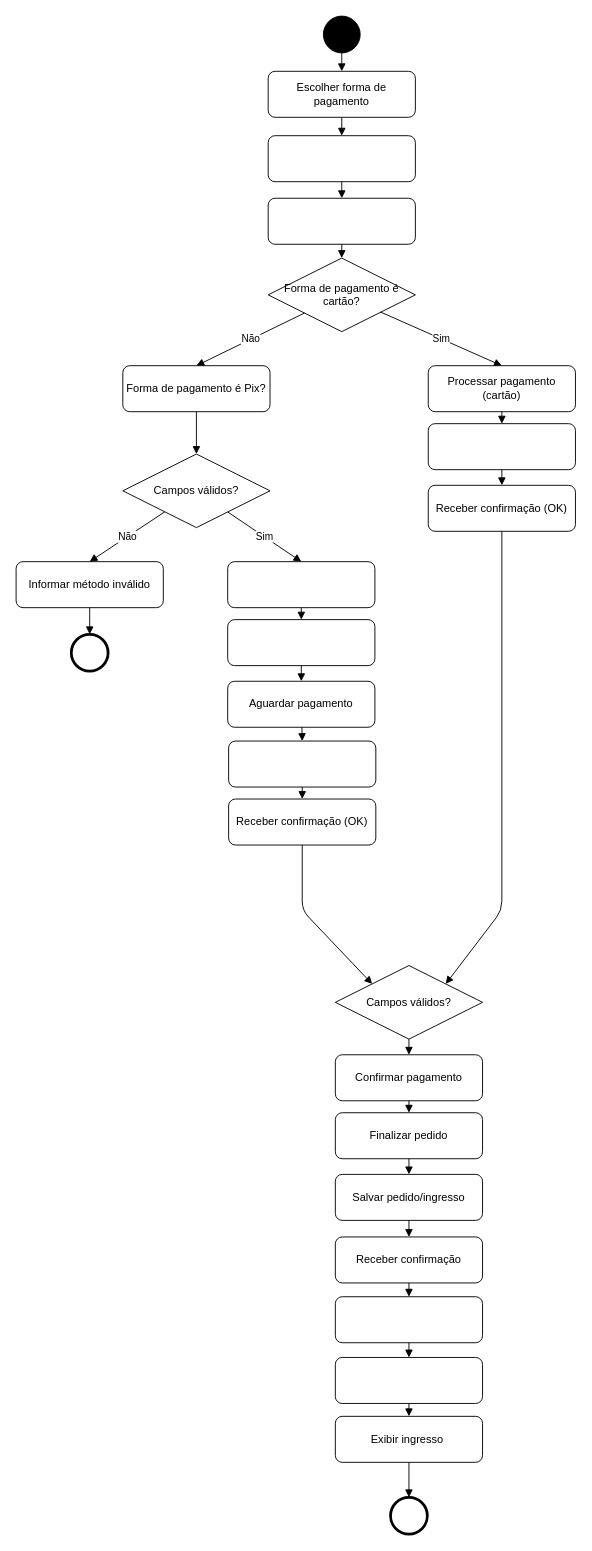
This 592x1551 diagram has some shape labels left out. The centre of each missing label's shape, as x and y in pixels:
Atualizar status: (x=408, y=1319)
Compra concluída: (x=408, y=1380)
Enviar escolha: (x=341, y=158)
Exibir QR Code: (x=301, y=642)
Gerar QR Code Pix: (x=301, y=584)
Preparar pagamento: (x=341, y=220)
Registrar pagamento: (x=302, y=763)
Registrar transação: (x=501, y=446)
